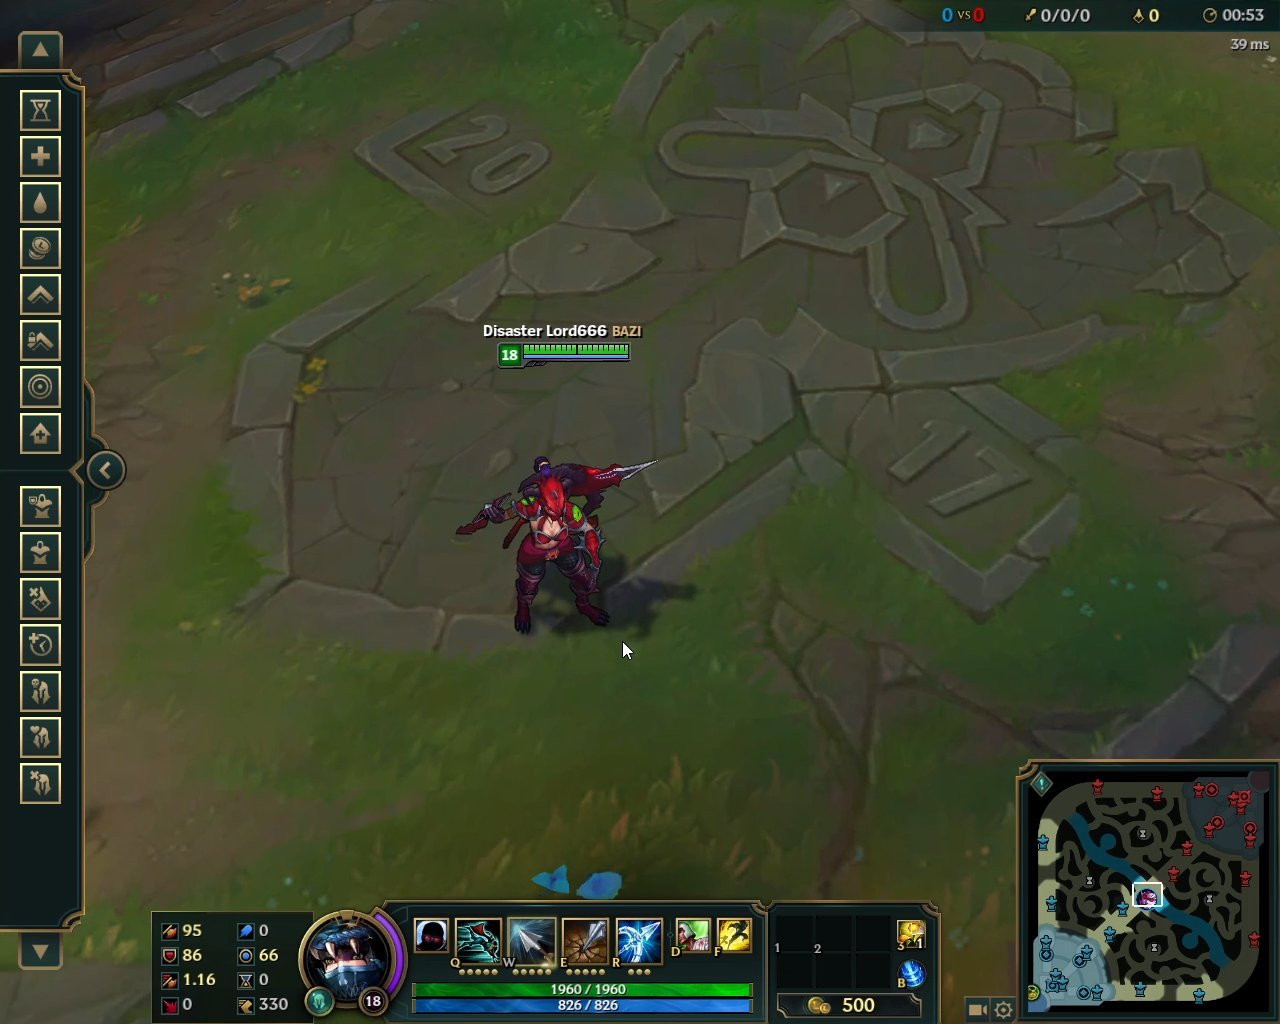Vayne: (447, 448, 660, 648)
